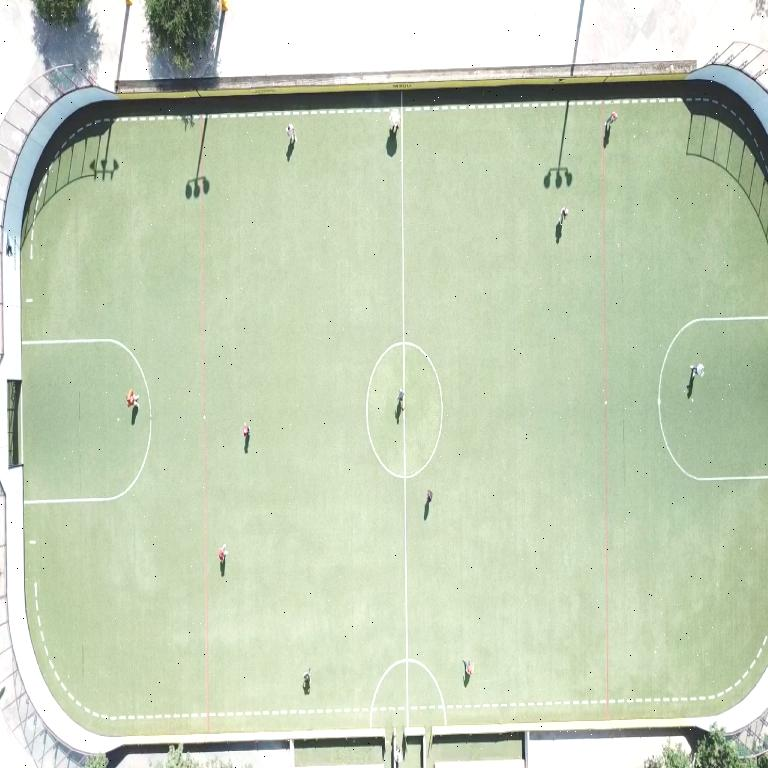AC: (22, 339, 151, 504), (657, 316, 767, 482)
B: (401, 404, 405, 410)
MC: (402, 409, 408, 726)
P: (388, 110, 399, 134), (604, 111, 616, 132), (126, 389, 137, 408), (286, 124, 296, 144), (463, 661, 473, 679), (303, 668, 310, 693), (558, 206, 567, 225), (690, 363, 703, 376), (218, 544, 226, 564), (397, 389, 404, 410), (242, 423, 249, 439), (427, 489, 432, 504)
